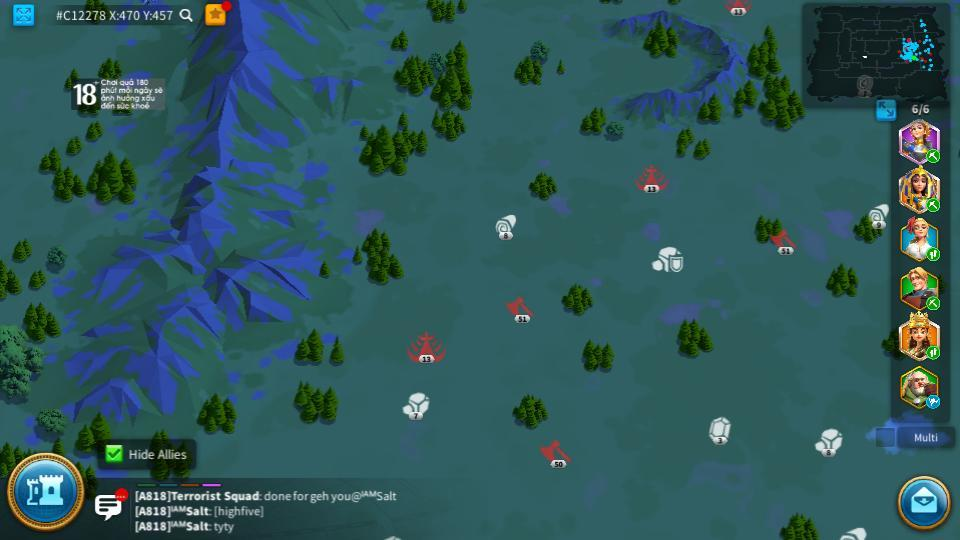gem-z-out: (708, 417, 732, 443), (840, 526, 868, 539), (383, 536, 404, 539)
march_farming: (925, 197, 941, 212)
march_idle: (925, 396, 942, 408)
march_marching: (925, 150, 942, 162), (925, 347, 941, 359), (925, 297, 941, 308)
